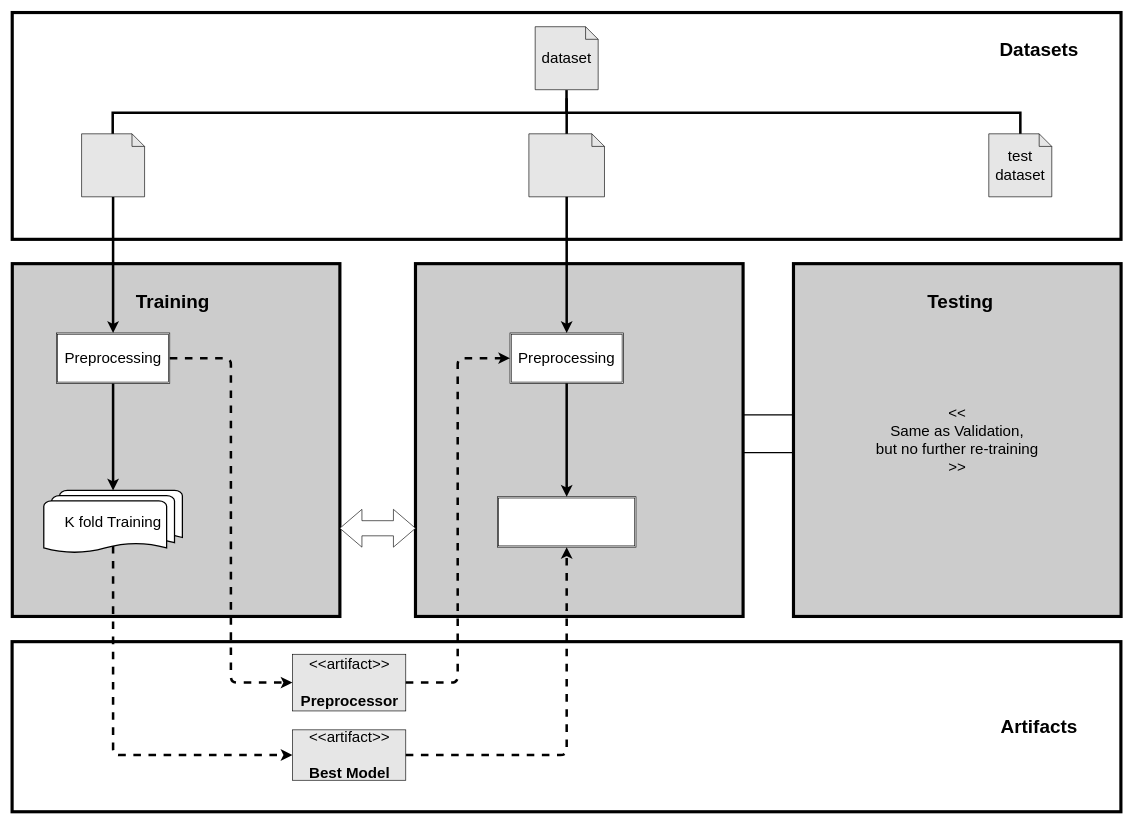
This 1134x824 diagram has some shape labels left out. Here are the shapes that lost their labels. From the top down, the centre of each, then its label:
point 113,165: train dataset
point 566,165: validation dataset
point 579,440: Validation
point 566,521: Check Validation Results
